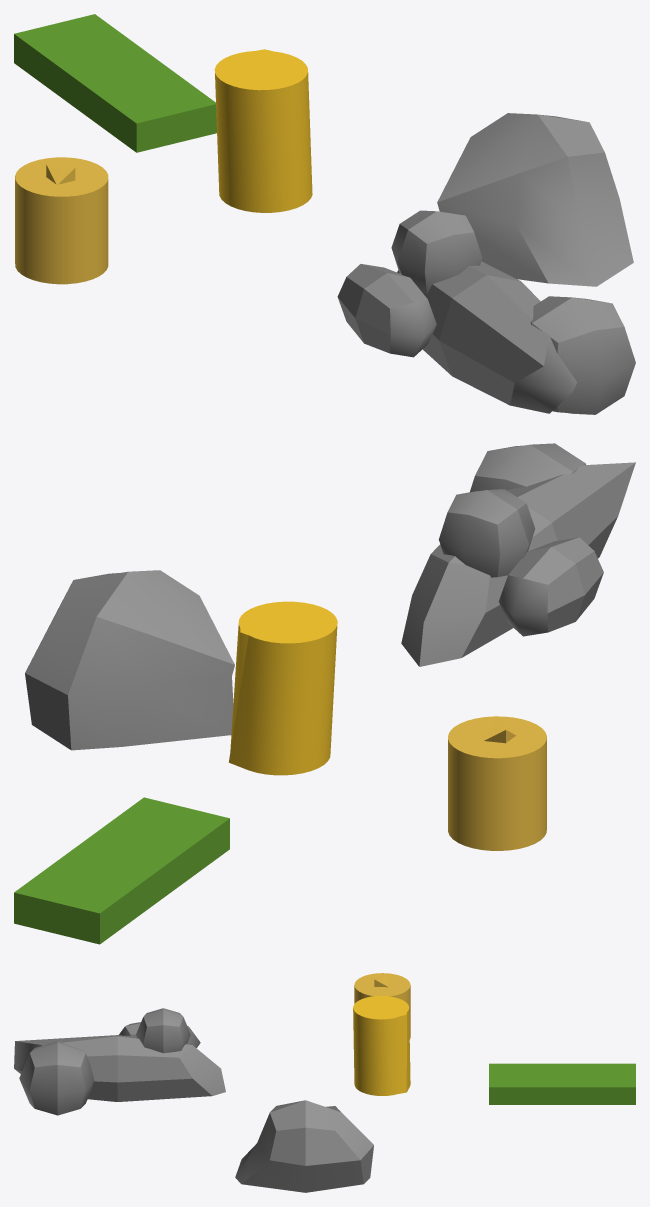
File: resources.fbx
3 views of the same model, one above another, from view 1: azimuth 30°, elevation 25°; view 2: azimuth 150°, elevation 25°; view 3: azimuth 270°, elevation 25° (orthographic). The views are drawn at different scales.
Visible parts, largest first — view 1: stone1, stone, foodBox, bioFuel, honeyBox; view 2: stone1, stone, foodBox, bioFuel, honeyBox; view 3: stone1, stone, foodBox, bioFuel, honeyBox.
Part boxes in pixels (x1=…): stone1: x1=337, y1=210, x2=635, y2=414; stone: x1=437, y1=113, x2=633, y2=286; foodBox: x1=14, y1=14, x2=216, y2=152; bioFuel: x1=214, y1=49, x2=312, y2=212; honeyBox: x1=15, y1=157, x2=108, y2=284; stone1: x1=401, y1=443, x2=635, y2=666; stone: x1=25, y1=570, x2=234, y2=750; foodBox: x1=14, y1=797, x2=229, y2=944; bioFuel: x1=228, y1=601, x2=337, y2=775; honeyBox: x1=448, y1=716, x2=546, y2=850; stone1: x1=14, y1=1008, x2=225, y2=1115; stone: x1=235, y1=1100, x2=373, y2=1192; foodBox: x1=489, y1=1063, x2=635, y2=1104; bioFuel: x1=353, y1=996, x2=410, y2=1095; honeyBox: x1=354, y1=973, x2=410, y2=1039.
Bounding box in the file's own units: 1294 × 442 × 2217.
